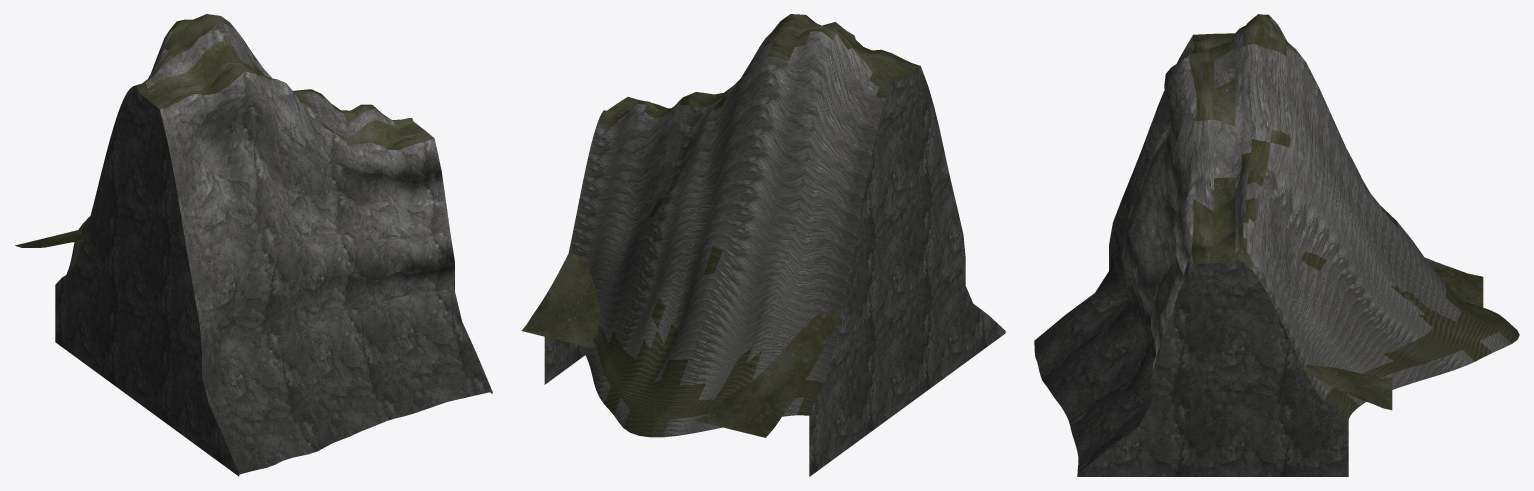
Rendered from seacliff_step_h5h3_v5_summer.glb.
3 renders of one model, left to right at view 1: azimuth 30°, elevation 25°; view 2: azimuth 150°, elevation 25°; view 3: azimuth 270°, elevation 25°, orthographic. The views are drawn at different scales.
Parts seen in each view (by area): view 1: seacliff_step_h5h3; view 2: seacliff_step_h5h3; view 3: seacliff_step_h5h3.
Boxes of the visible parts, box(x1,y1,x2,y2) form: seacliff_step_h5h3: box(15, 14, 492, 476); seacliff_step_h5h3: box(521, 14, 1005, 476); seacliff_step_h5h3: box(1034, 14, 1519, 476).
Size of the model in its own units: 6 by 7.5 by 9.2.
2 materials, 2 textured.
